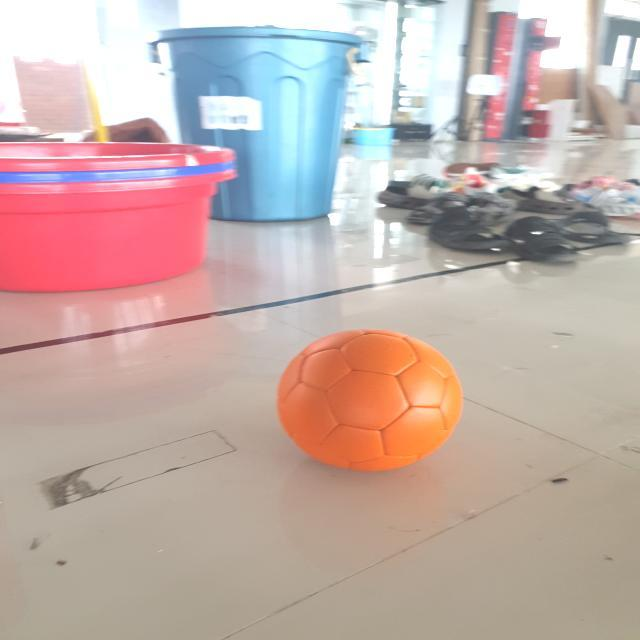bola: (274, 322, 468, 482)
